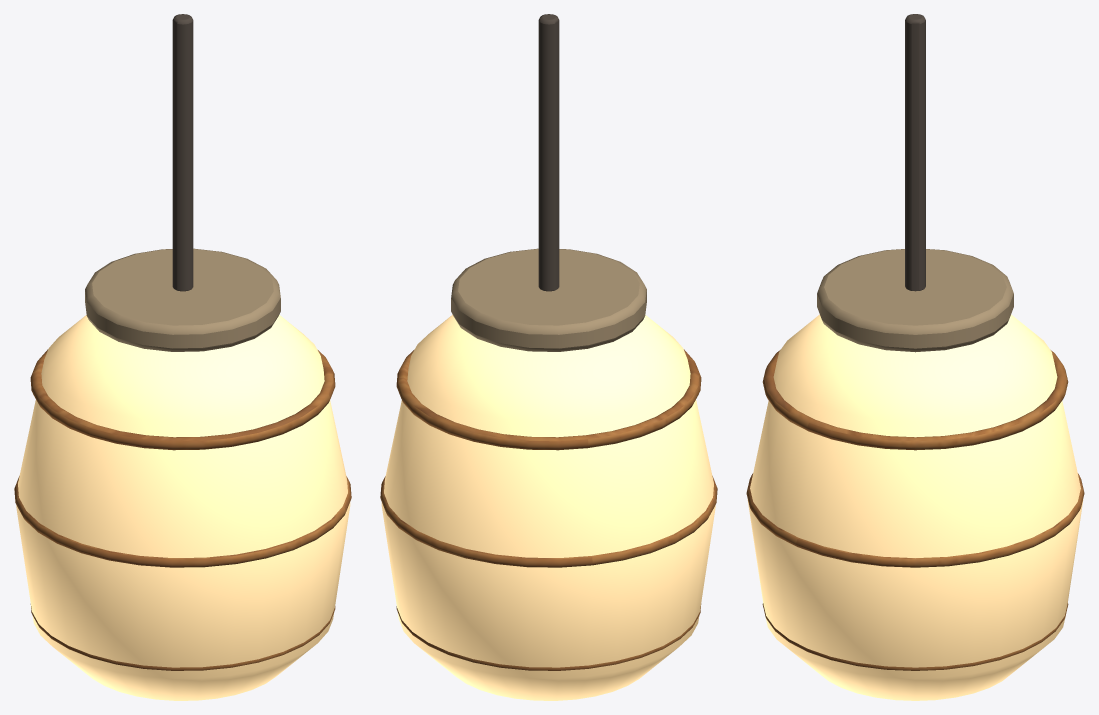
The model's file is WC_CAFE_Lamp_Hanging_A.glb.
3 views of the same model, side by side, from view 1: azimuth 30°, elevation 25°; view 2: azimuth 150°, elevation 25°; view 3: azimuth 270°, elevation 25° (orthographic).
Visible parts, largest first — view 1: WC_CAFE_Lamp_Hanging_A_RenderMesh; view 2: WC_CAFE_Lamp_Hanging_A_RenderMesh; view 3: WC_CAFE_Lamp_Hanging_A_RenderMesh.
Boxes of the visible parts, left/top/right/bottom form: WC_CAFE_Lamp_Hanging_A_RenderMesh: left=14, top=14, right=351, bottom=700; WC_CAFE_Lamp_Hanging_A_RenderMesh: left=380, top=14, right=717, bottom=700; WC_CAFE_Lamp_Hanging_A_RenderMesh: left=746, top=14, right=1084, bottom=700.
Size of the model in its own units: 0.292 by 0.61 by 0.292.
Materials: 4 (1 with a texture image).
